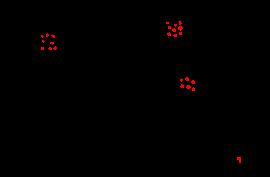Target: (178, 26, 183, 31), (237, 157, 241, 163), (186, 85, 191, 89), (172, 28, 176, 32), (167, 32, 171, 36), (53, 46, 57, 50), (185, 77, 189, 81), (191, 80, 195, 84), (180, 84, 184, 88), (179, 21, 182, 25), (46, 33, 49, 37), (173, 34, 177, 37), (51, 35, 55, 38), (50, 42, 54, 45), (48, 47, 52, 50), (192, 87, 195, 91), (174, 24, 177, 27), (168, 26, 171, 29), (179, 32, 182, 35), (41, 35, 44, 38), (42, 40, 45, 43), (41, 47, 44, 50), (180, 79, 183, 82), (166, 22, 169, 24)
